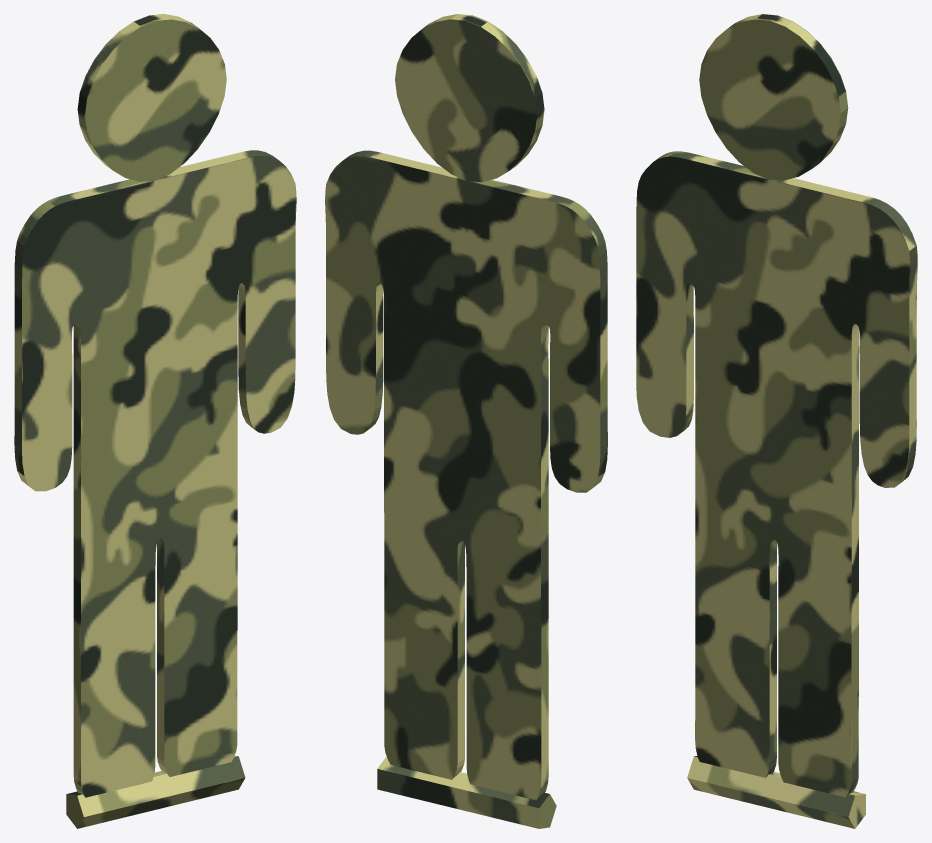
The model's file is camo2.obj.
3 views of the same model, side by side, from view 1: azimuth 30°, elevation 25°; view 2: azimuth 150°, elevation 25°; view 3: azimuth 330°, elevation 25° (orthographic).
Parts seen in each view (by area): view 1: Cylinder01_Cylinder01.003; view 2: Cylinder01_Cylinder01.003; view 3: Cylinder01_Cylinder01.003.
Part boxes in pixels (x1=…): Cylinder01_Cylinder01.003: x1=14, y1=14, x2=296, y2=828; Cylinder01_Cylinder01.003: x1=325, y1=14, x2=607, y2=828; Cylinder01_Cylinder01.003: x1=636, y1=14, x2=917, y2=828.
Size of the model in its own units: 1.35 by 3.72 by 0.1492.
